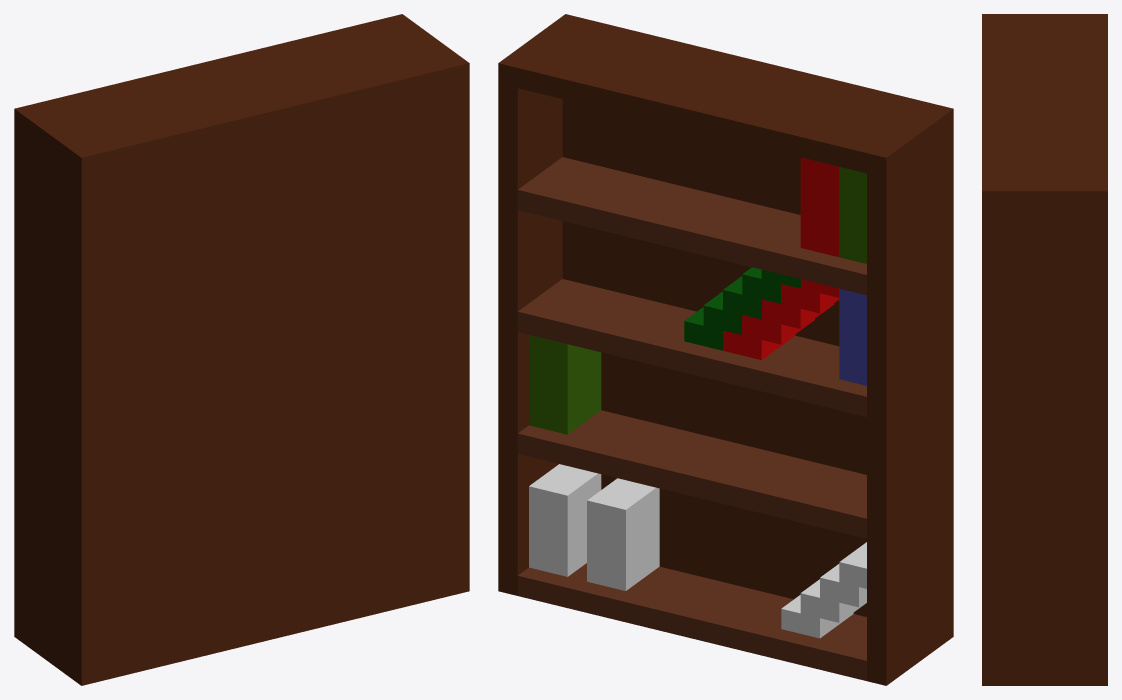
File: ketabkhune.dae
3 renders of one model, left to right at view 1: azimuth 30°, elevation 25°; view 2: azimuth 150°, elevation 25°; view 3: azimuth 270°, elevation 25°, orthographic. The views are drawn at different scales.
Parts seen in each view (by area): view 1: ketabkhune.ketabkhune; view 2: ketabkhune.ketabkhune; view 3: ketabkhune.ketabkhune.
Part boxes in pixels (bbox=[...]): ketabkhune.ketabkhune: bbox=[14, 14, 469, 685]; ketabkhune.ketabkhune: bbox=[498, 14, 953, 685]; ketabkhune.ketabkhune: bbox=[982, 14, 1107, 685].
Size of the model in its own units: 2 by 0.6 by 2.6.
Materials: 1 (1 with a texture image).
